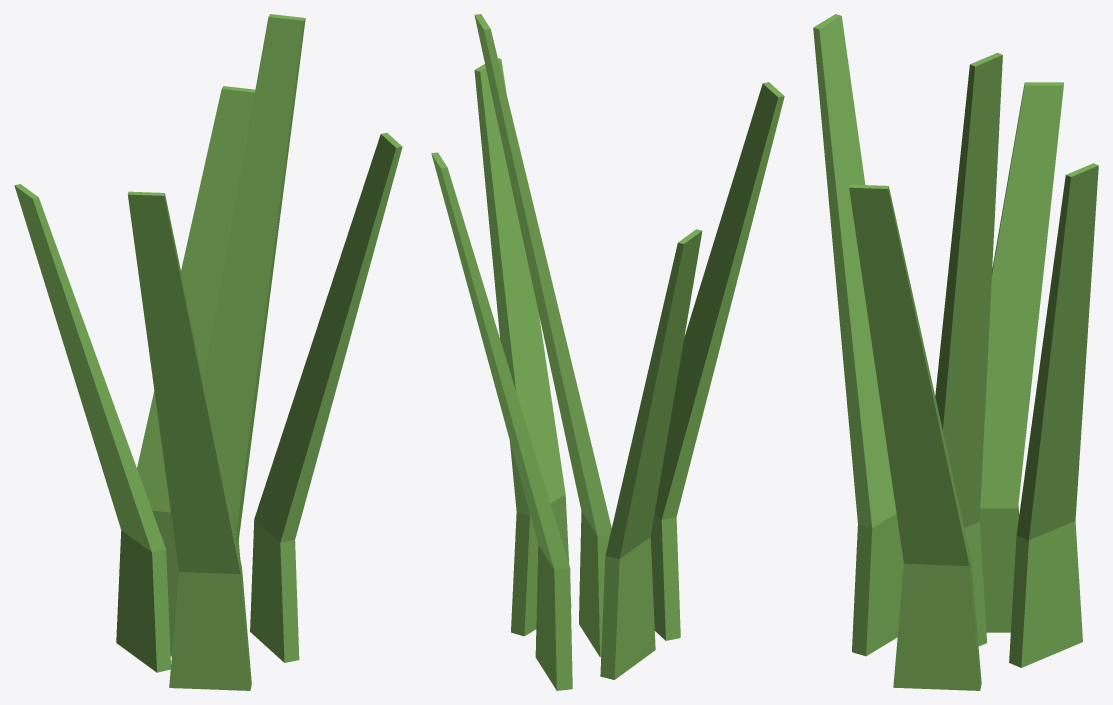
File: grass_50.gltf
3 views of the same model, side by side, from view 1: azimuth 30°, elevation 25°; view 2: azimuth 150°, elevation 25°; view 3: azimuth 270°, elevation 25° (orthographic). The views are drawn at different scales.
Visible parts, largest first — view 1: grass004; view 2: grass004; view 3: grass004.
Part boxes in pixels (<box>): grass004: <box>14,14,402,690</box>; grass004: <box>431,14,784,690</box>; grass004: <box>813,14,1098,690</box>.
Size of the model in its own units: 0.1007 by 0.1998 by 0.0803.
1 material, 1 textured.
